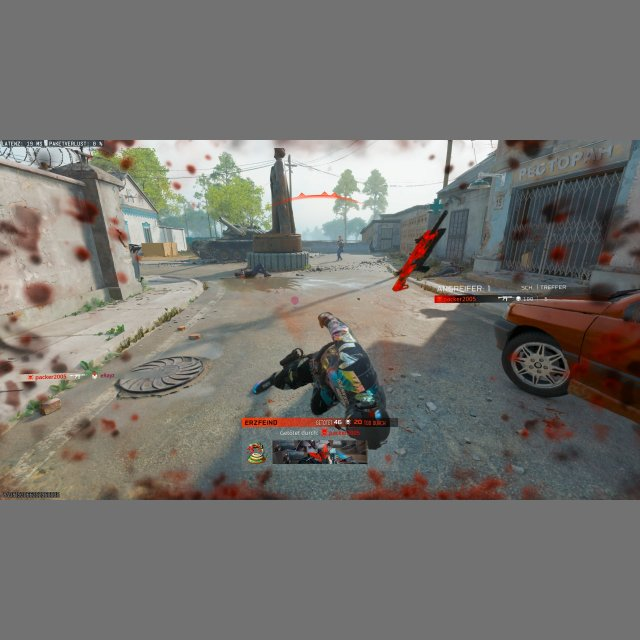head: (317, 311, 334, 329)
player: (335, 236, 345, 261)
